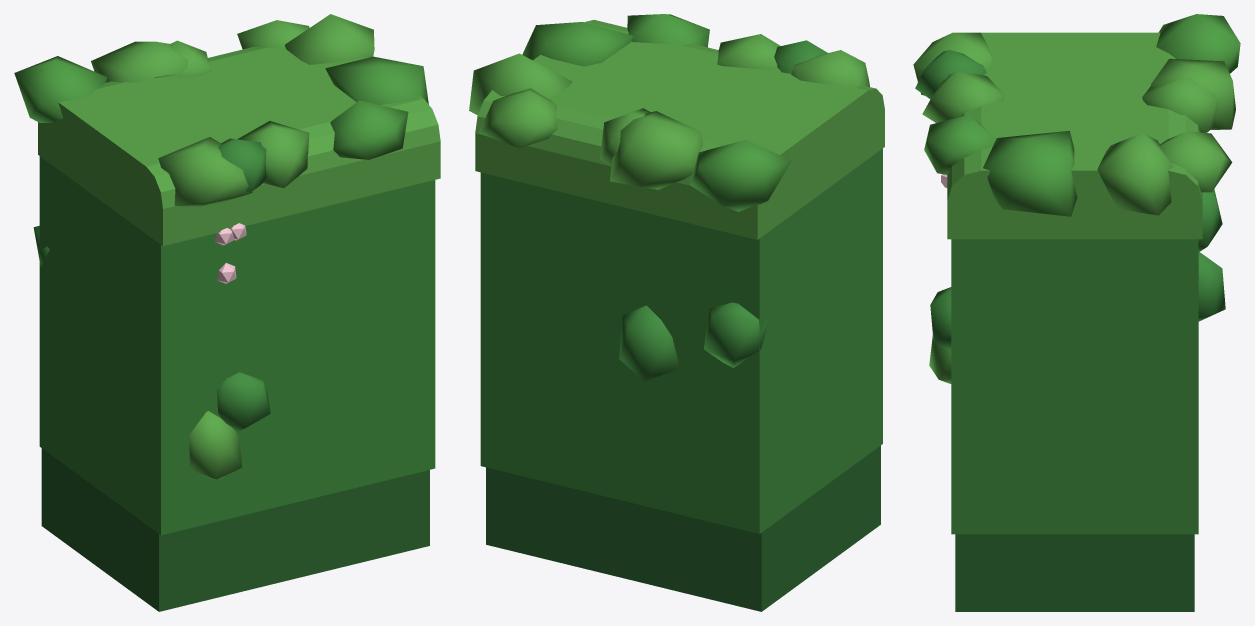
Rendered from hedge_end.glb.
3 views of the same model, side by side, from view 1: azimuth 30°, elevation 25°; view 2: azimuth 150°, elevation 25°; view 3: azimuth 270°, elevation 25° (orthographic).
Parts seen in each view (by area): view 1: hedge_end; view 2: hedge_end; view 3: hedge_end.
Boxes of the visible parts, box(x1,y1,x2,y2) form: hedge_end: box(14, 14, 440, 611); hedge_end: box(469, 14, 884, 611); hedge_end: box(913, 14, 1240, 611).
Size of the model in its own units: 0.9516 by 1.32 by 0.8206.
